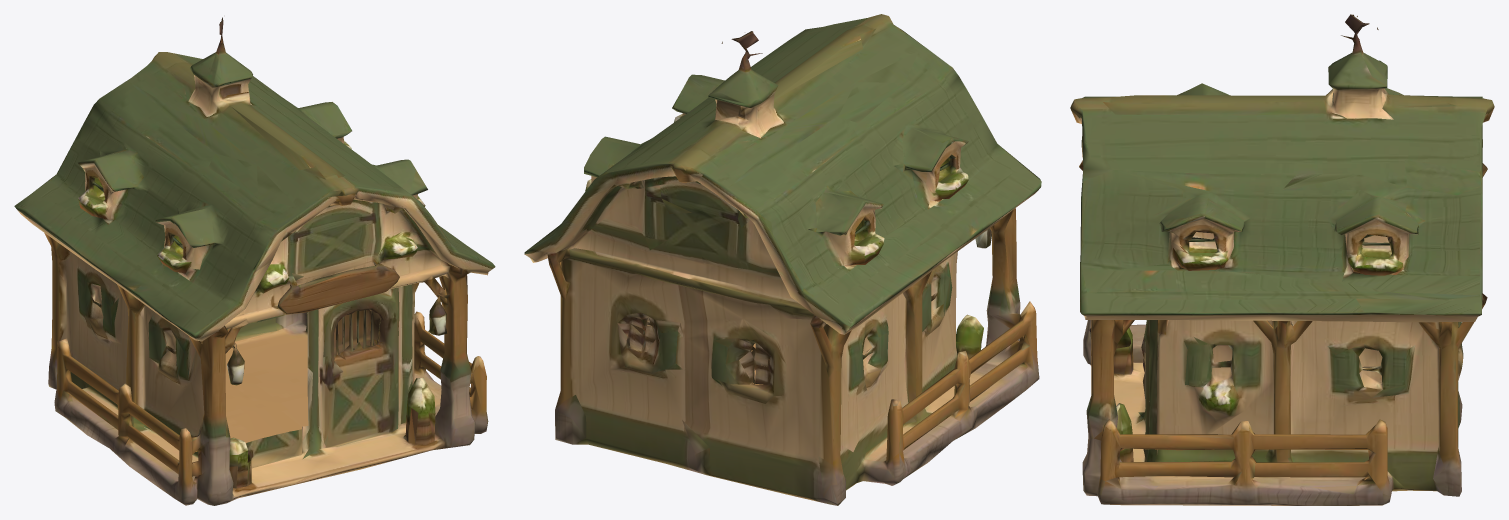
3 renders of one model, left to right at view 1: azimuth 30°, elevation 25°; view 2: azimuth 150°, elevation 25°; view 3: azimuth 270°, elevation 25°, orthographic. The views are drawn at different scales.
Parts seen in each view (by area): view 1: stable-lv3; view 2: stable-lv3; view 3: stable-lv3.
Boxes of the visible parts, x1,y1,x2,y2 form: stable-lv3: (14,17,495,505); stable-lv3: (524,14,1041,505); stable-lv3: (1070,14,1494,505).
Size of the model in its own units: 3.93 by 4.5 by 4.2.
Materials: 1 (1 with a texture image).
